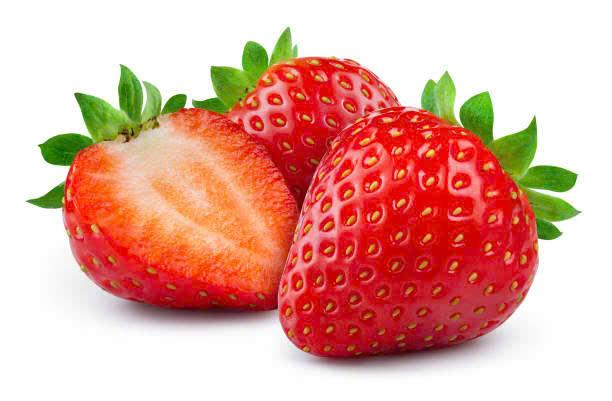strawberry: (292, 98, 574, 367), (59, 55, 255, 320), (228, 30, 440, 168)
